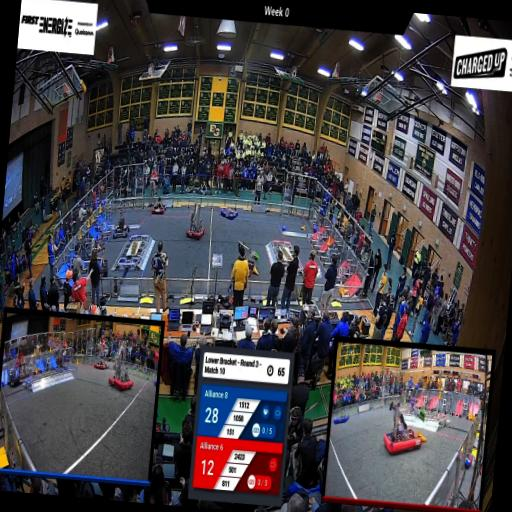robot: (182, 200, 212, 247), (232, 239, 259, 281), (89, 240, 113, 280), (110, 206, 132, 240), (150, 186, 168, 216), (219, 198, 240, 222)
